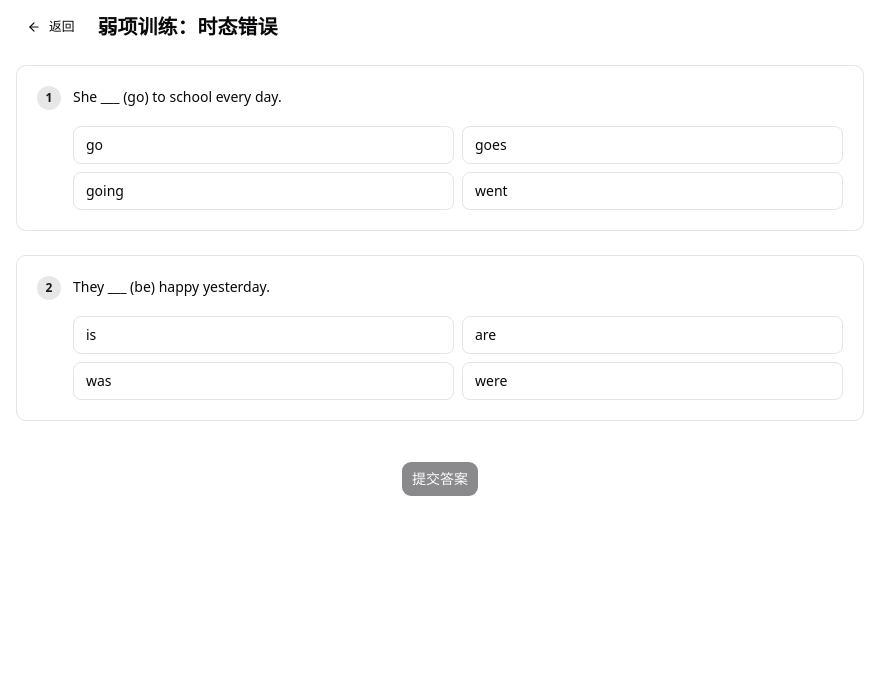
it: ExercisePage › handleRetry returns to loading and regenerates exercises
The image size is (881, 684).
Expected: the button "提交答案" is shown, x1=401 y1=461 x2=479 y2=497
Answer and submit to reach review phase
Click the button "goes".
click(491, 144)  # box x1=462 y1=126 x2=843 y2=164
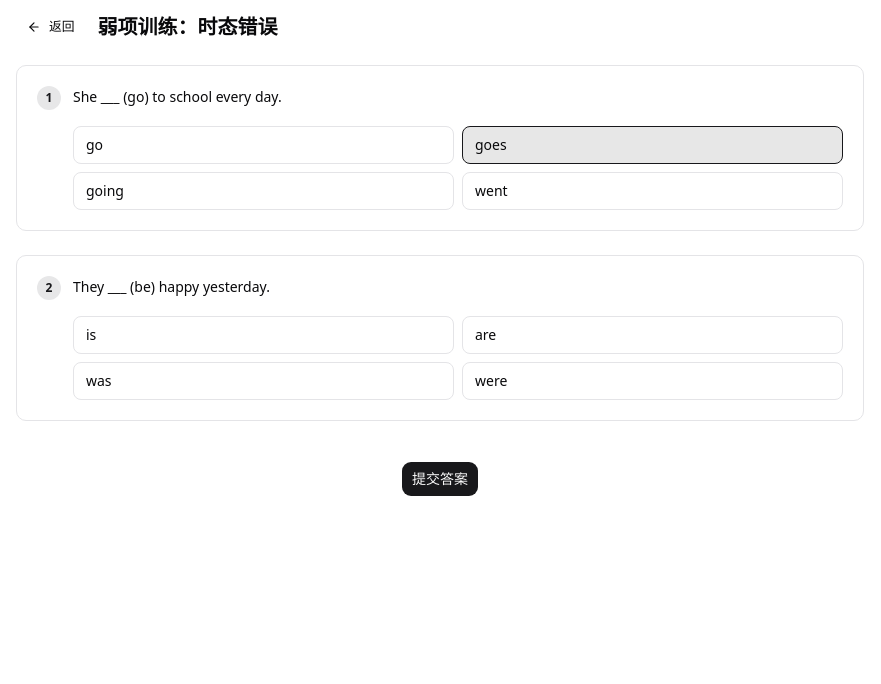
Click the button "提交答案".
click(440, 479)  # box x1=401 y1=461 x2=479 y2=497
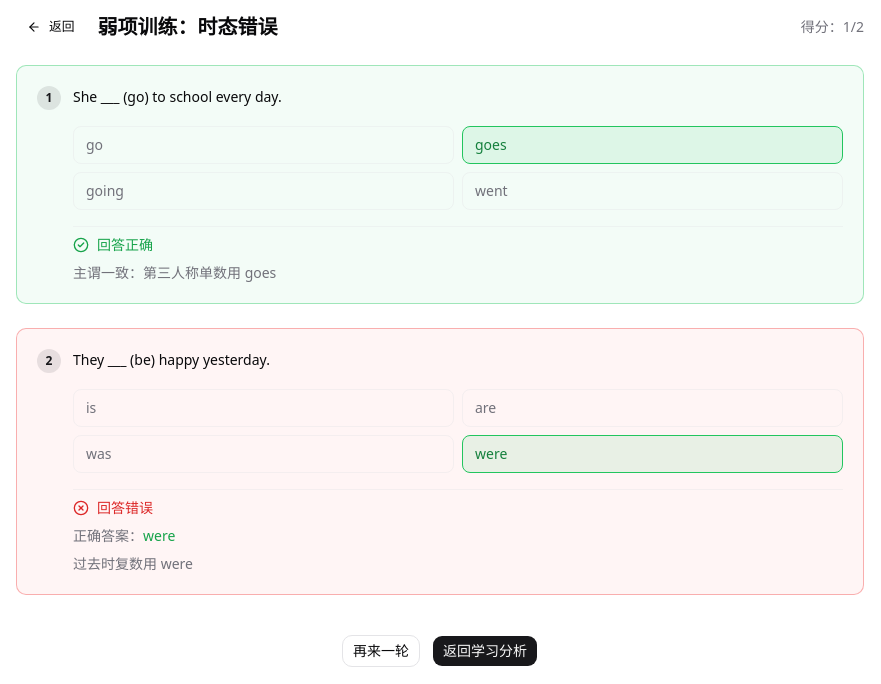
Result: the button "再来一轮" is shown
Click "再来一轮"
Click the button "再来一轮".
click(381, 651)  # box x1=342 y1=635 x2=420 y2=667
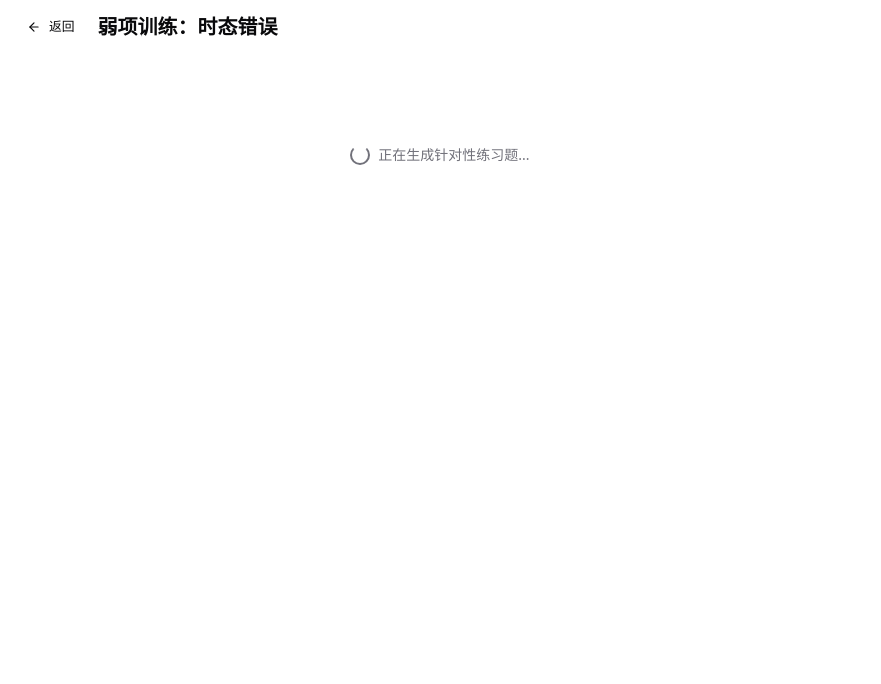
Result: the text "正在生成针对性练习题..." is shown at x1=350 y1=145 x2=530 y2=165
